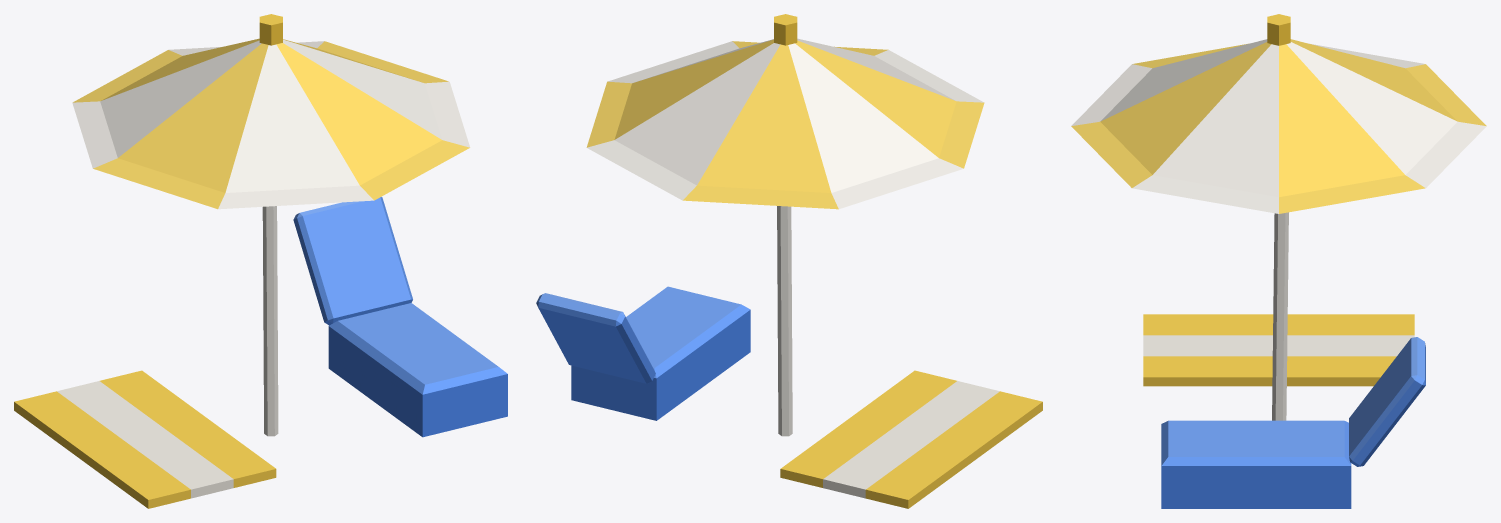
Rendered from BeachUmbrella_2.glb.
3 views of the same model, side by side, from view 1: azimuth 30°, elevation 25°; view 2: azimuth 150°, elevation 25°; view 3: azimuth 270°, elevation 25° (orthographic).
Visible parts, largest first — view 1: BeachUmbrella_2; view 2: BeachUmbrella_2; view 3: BeachUmbrella_2.
Boxes of the visible parts, <box> form: BeachUmbrella_2: <box>14,14,507,508</box>; BeachUmbrella_2: <box>536,14,1042,508</box>; BeachUmbrella_2: <box>1071,14,1486,508</box>.
Size of the model in its own units: 9.5 by 10.2 by 9.2.
Materials: 1 (1 with a texture image).
